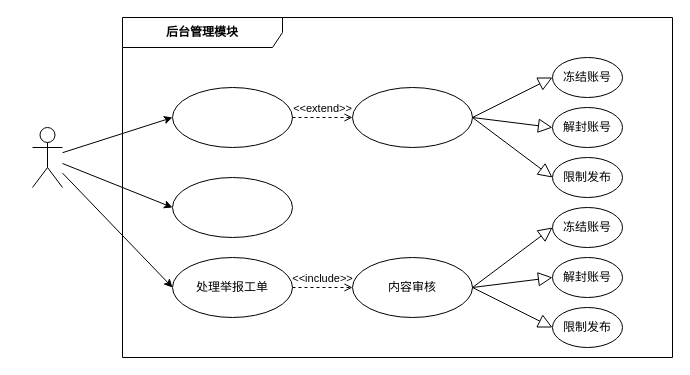
This 690x375 diagram has some shape labels left out. Here are the shapes that lost their labels. From the top down, the centre of each, then its label:
point 232,117: 查询用户信息
point 412,117: 用户管理
point 47,157: 系统管理员
point 232,207: 查看系统概览
